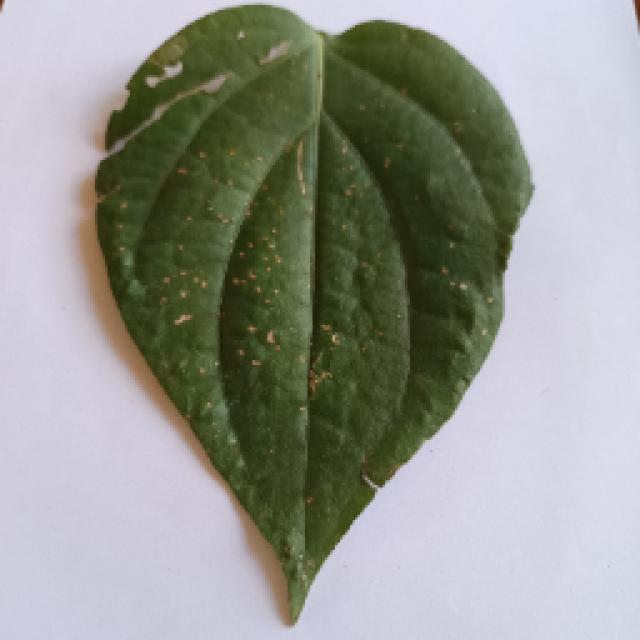pollu-disease: (75, 17, 540, 625)
